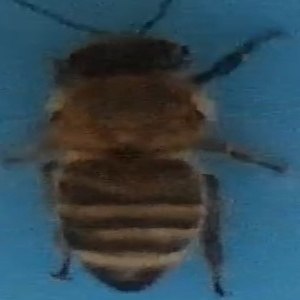bee: (22, 1, 265, 300)
